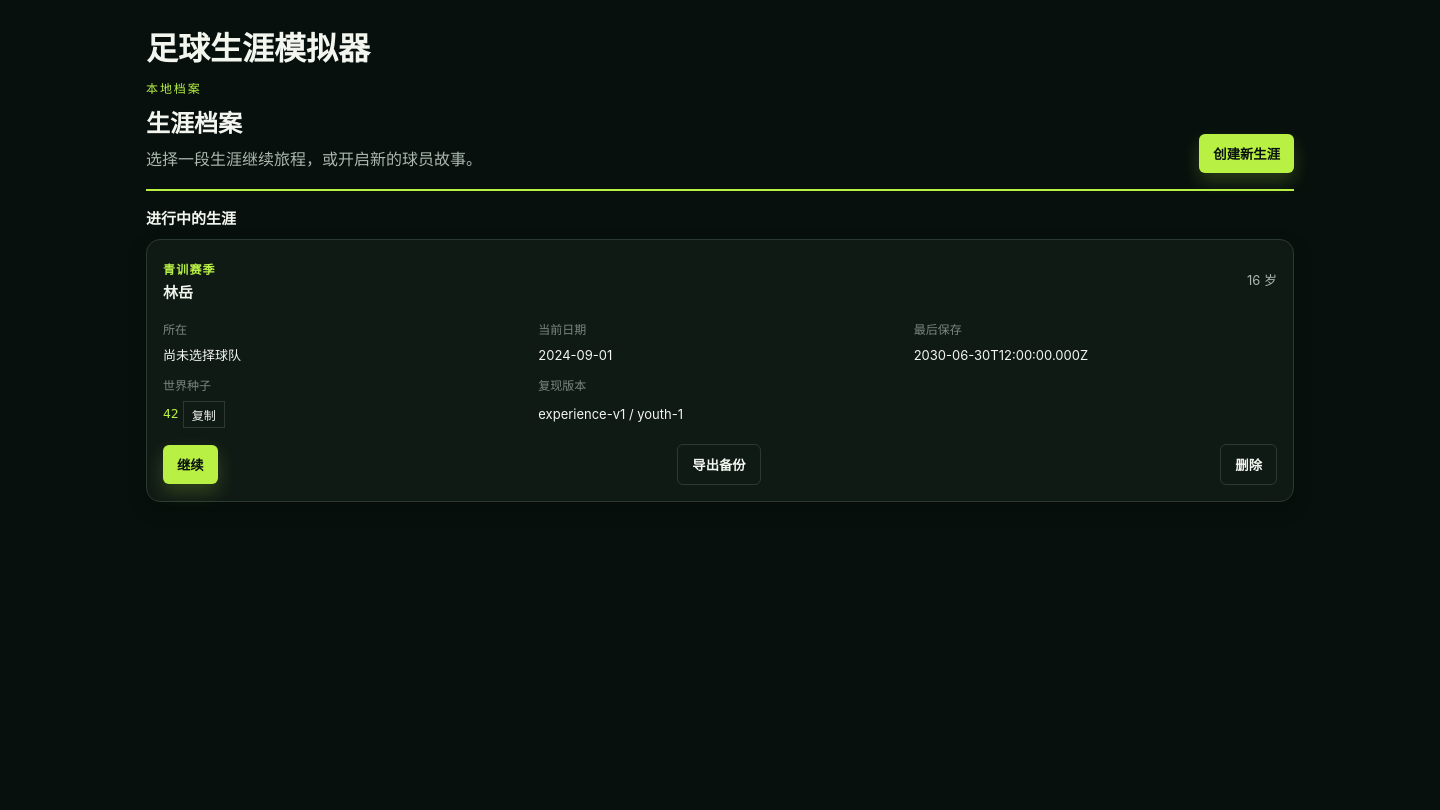
Test: App › commits a completed youth season before showing its dashboard outcome
Click the button with aria-label "继续林岳的生涯". click: (190, 464)
box: x1=163 y1=444 x2=218 y2=484
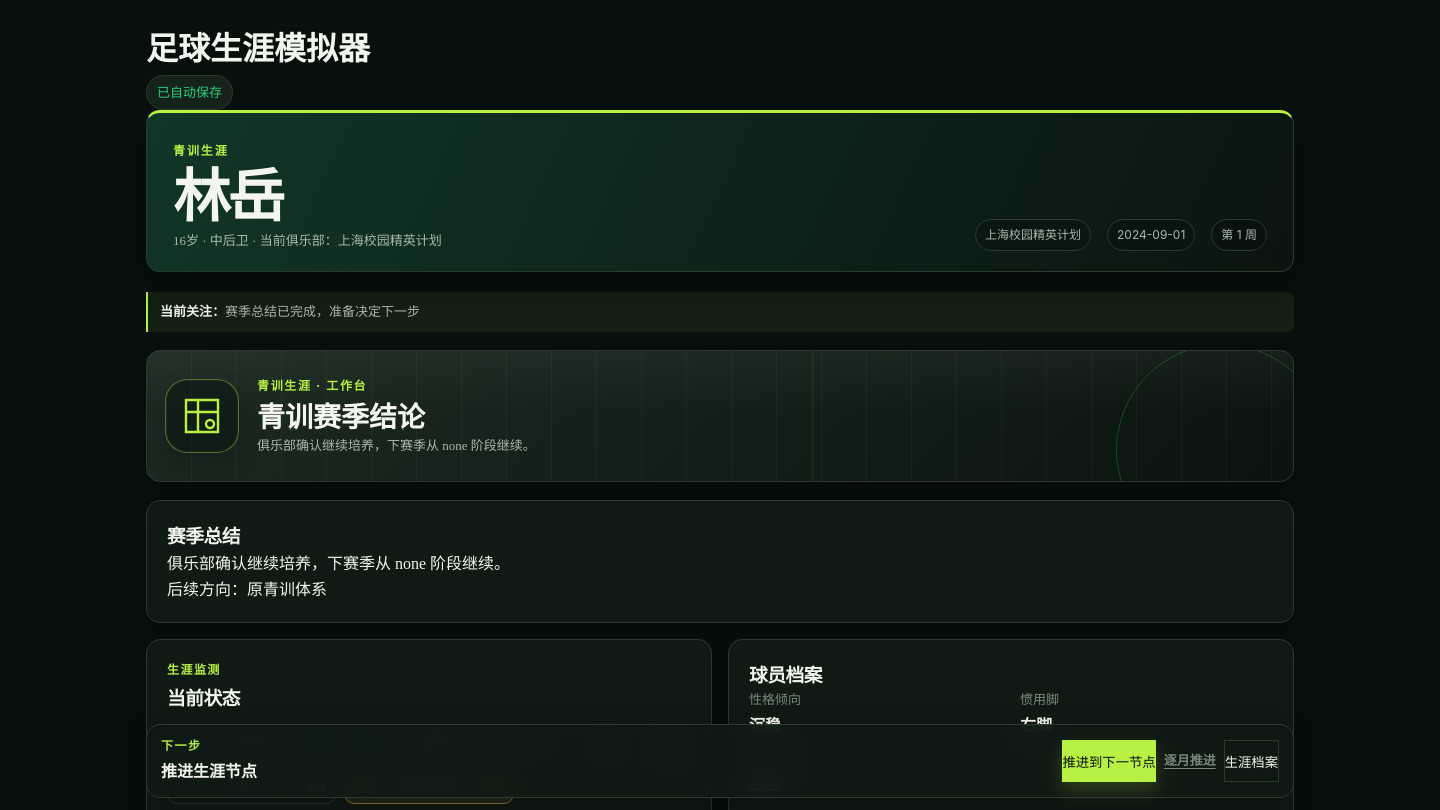
Check: the text "青训生涯" is shown, box x1=173 y1=143 x2=229 y2=158
